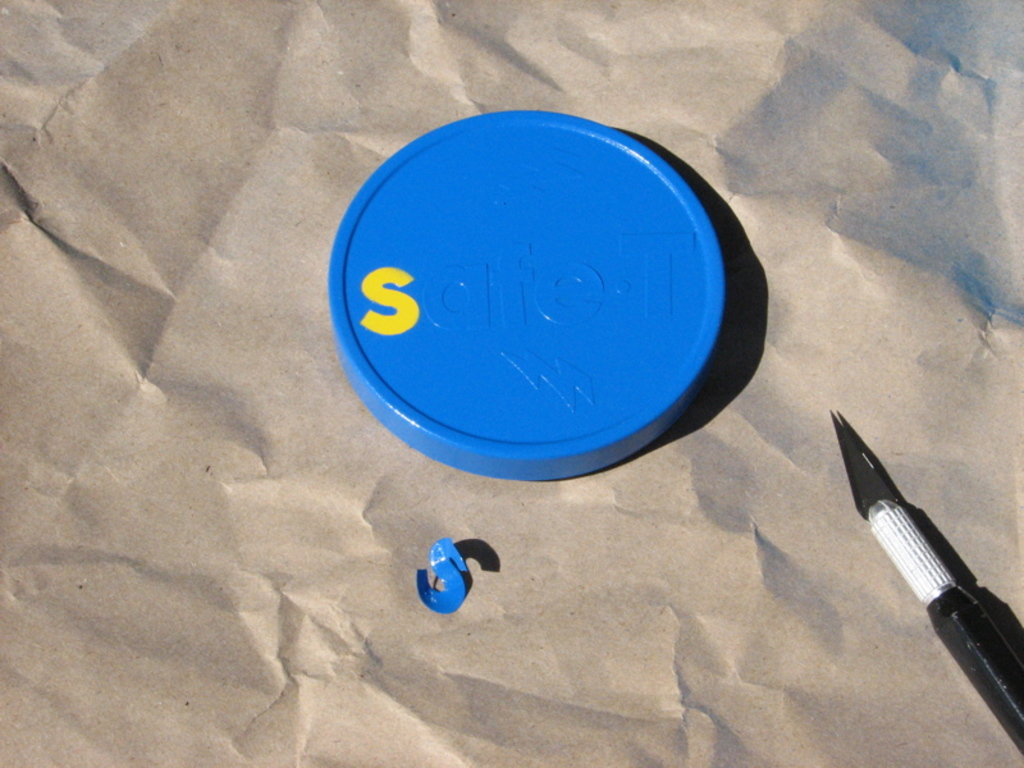Pen: (829, 410, 1023, 759)
